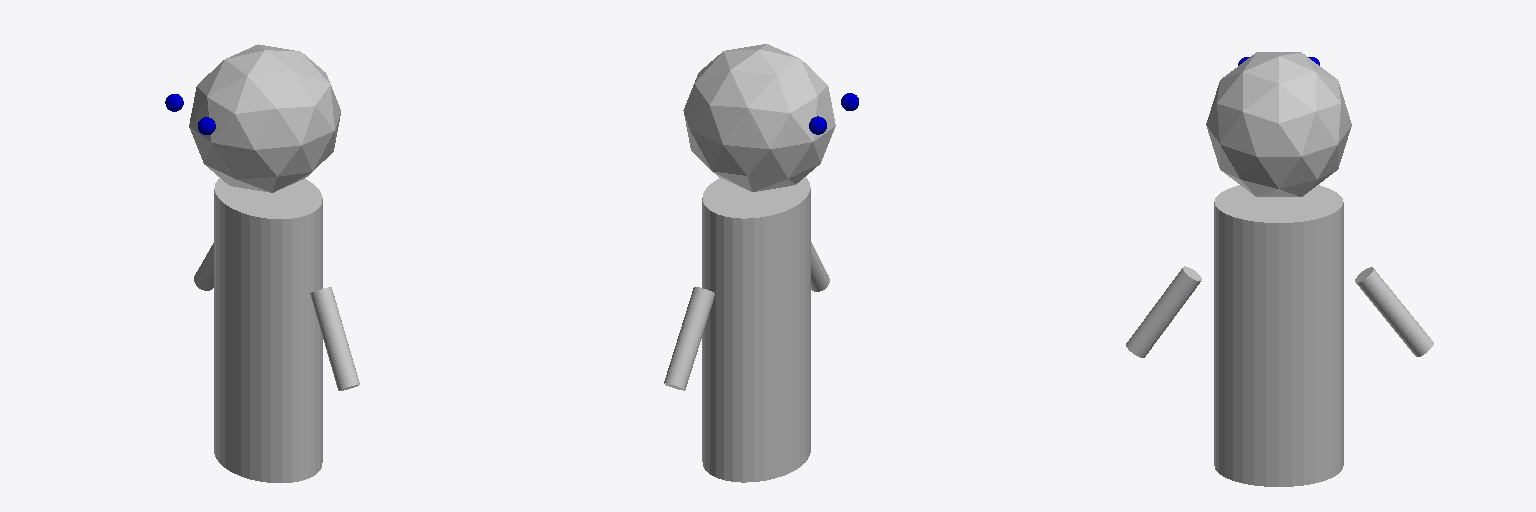
Rendered from person.obj.
3 views of the same model, side by side, from view 1: azimuth 30°, elevation 25°; view 2: azimuth 150°, elevation 25°; view 3: azimuth 270°, elevation 25° (orthographic).
Visible parts, largest first — view 1: torso_Cylinder, head_Icosphere, leftArm_Cylinder.002, rightArm_Cylinder.001; view 2: torso_Cylinder, head_Icosphere, rightArm_Cylinder.001, leftArm_Cylinder.002; view 3: torso_Cylinder, head_Icosphere, rightArm_Cylinder.001, leftArm_Cylinder.002.
Boxes of the visible parts, x1,y1,x2,y2 form: torso_Cylinder: [214, 178, 322, 482]; head_Icosphere: [189, 44, 340, 192]; leftArm_Cylinder.002: [310, 287, 359, 390]; rightArm_Cylinder.001: [194, 243, 213, 290]; torso_Cylinder: [702, 177, 810, 482]; head_Icosphere: [683, 44, 835, 191]; rightArm_Cylinder.001: [664, 287, 714, 390]; leftArm_Cylinder.002: [811, 242, 829, 291]; torso_Cylinder: [1214, 185, 1343, 486]; head_Icosphere: [1206, 52, 1351, 196]; rightArm_Cylinder.001: [1355, 267, 1433, 356]; leftArm_Cylinder.002: [1126, 266, 1201, 357].
Size of the model in its own units: 0.925 by 2.45 by 1.67.